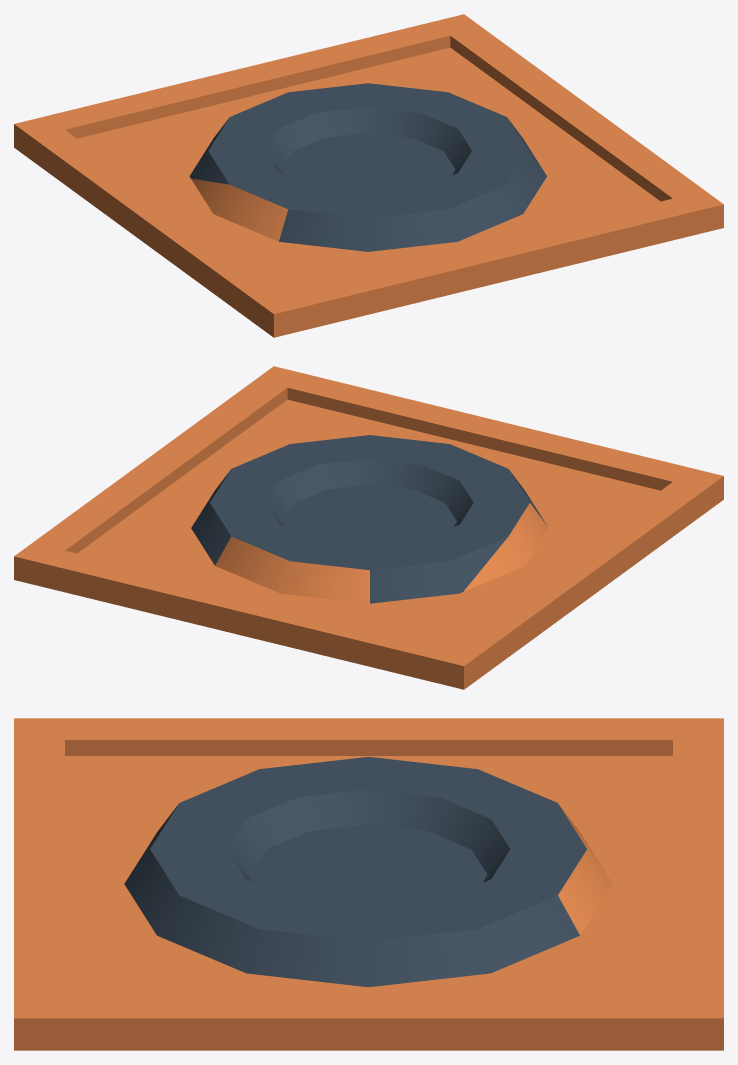
File: Trap_Fire.fbx
3 renders of one model, top to bottom at view 1: azimuth 30°, elevation 25°; view 2: azimuth 150°, elevation 25°; view 3: azimuth 270°, elevation 25°, orthographic. The views are drawn at different scales.
Parts seen in each view (by area): view 1: Trap_Fire; view 2: Trap_Fire; view 3: Trap_Fire.
Part boxes in pixels (x1=…): Trap_Fire: x1=14, y1=14, x2=723, y2=337; Trap_Fire: x1=14, y1=366, x2=723, y2=689; Trap_Fire: x1=14, y1=718, x2=723, y2=1050.
Size of the model in its own units: 100 by 100 by 7.91.
